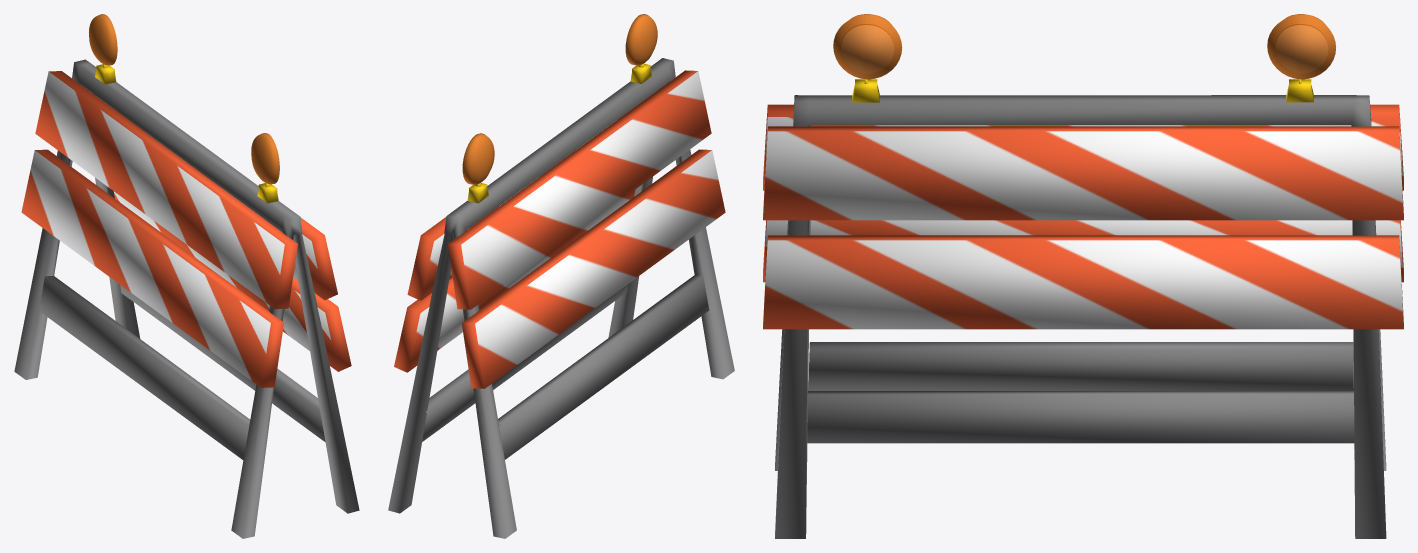
Rendered from barricade.fbx.
3 renders of one model, left to right at view 1: azimuth 30°, elevation 25°; view 2: azimuth 150°, elevation 25°; view 3: azimuth 270°, elevation 25°, orthographic. The views are drawn at different scales.
Visible parts, largest first — view 1: Cube.002; view 2: Cube.002; view 3: Cube.002.
Part boxes in pixels (box(x1,y1,x2,y2)): Cube.002: box(14, 14, 359, 538); Cube.002: box(388, 14, 734, 538); Cube.002: box(763, 14, 1403, 538).
Bounding box in the file's own units: 73.64 × 220 × 262.
